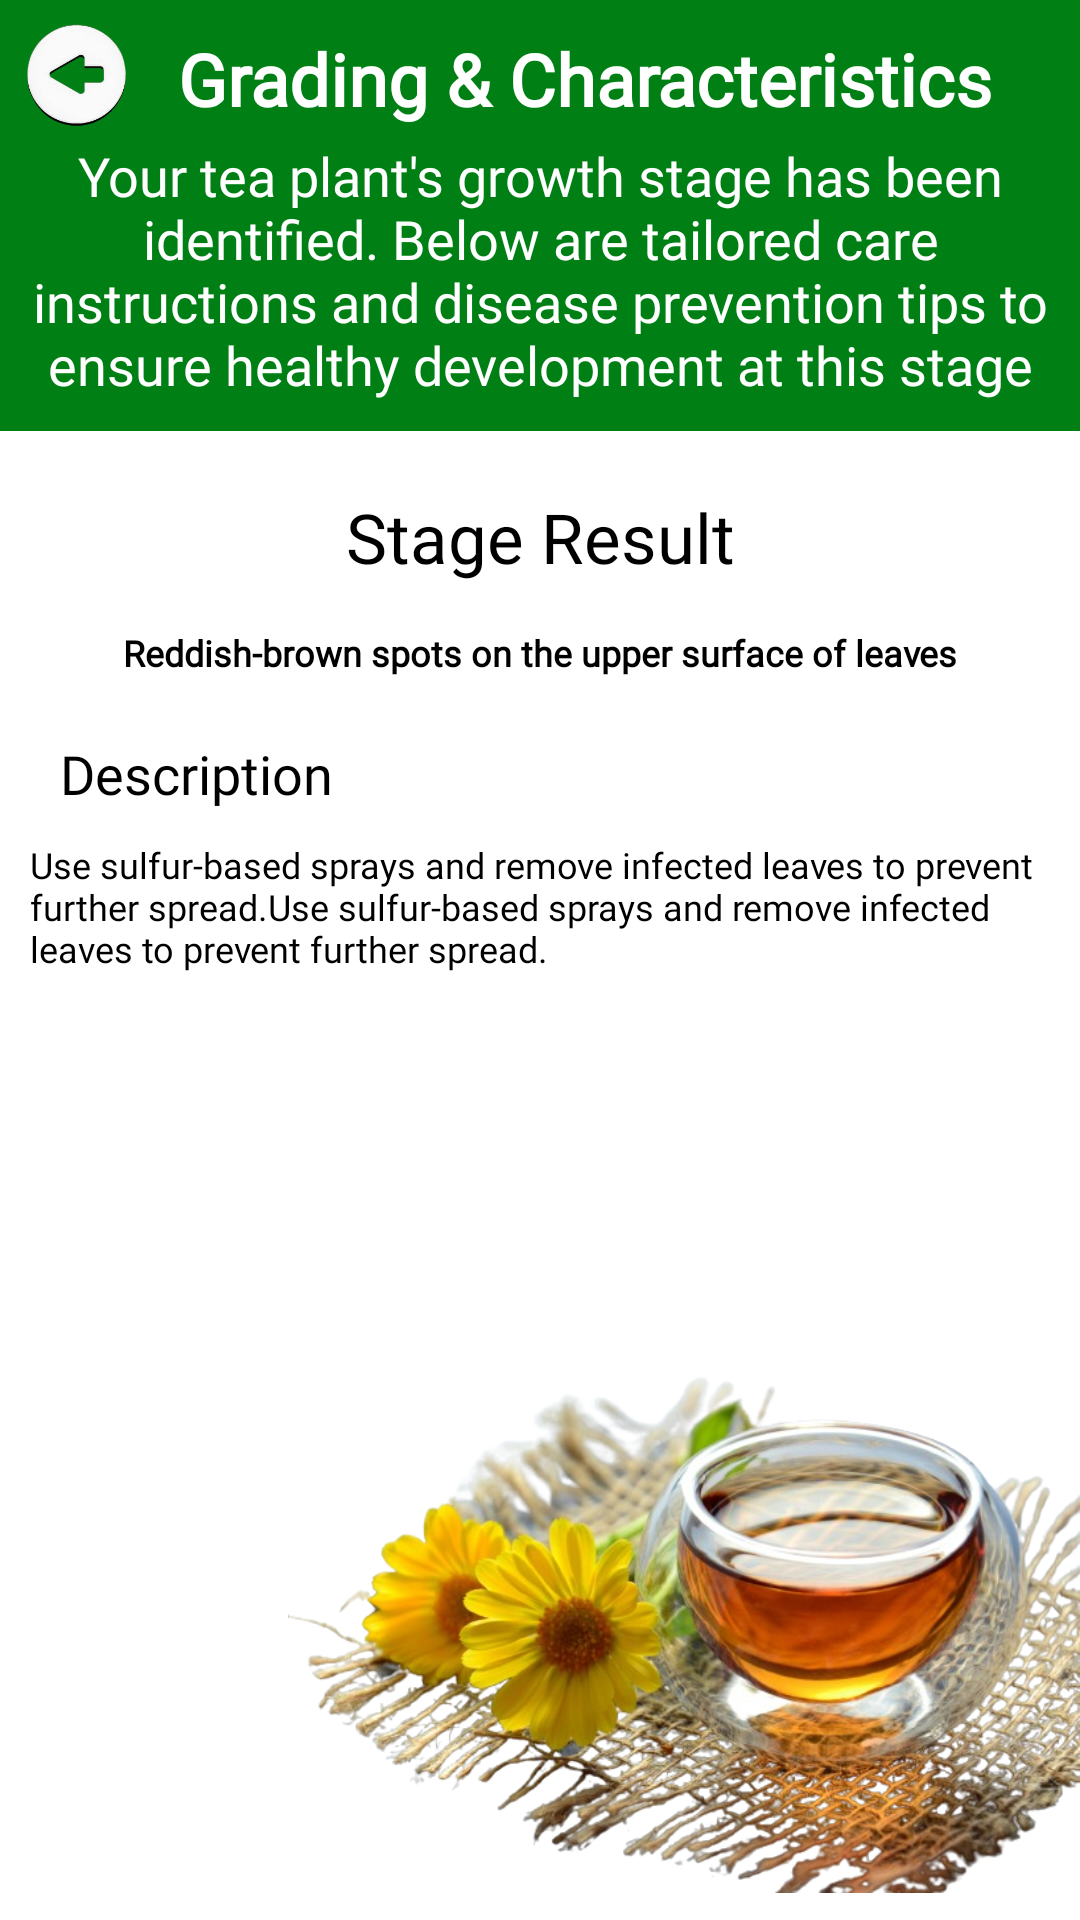

Named icons in this screenshot (1080w x 1920h) and their centers, (x=x, y=y):
back: (x=76, y=75)
